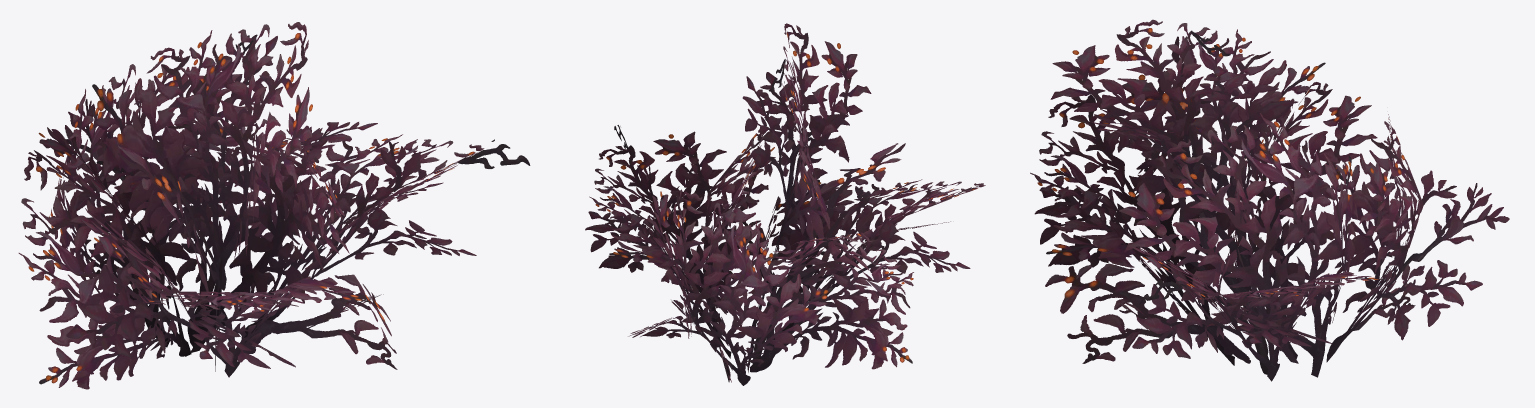
The picture shows the model from 3 angles, left to right: view 1: azimuth 30°, elevation 25°; view 2: azimuth 150°, elevation 25°; view 3: azimuth 270°, elevation 25°; orthographic projection. The views are drawn at different scales.
Size of the model in its own units: 5.71 by 4.64 by 5.33.
Materials: 1 (1 with a texture image).
